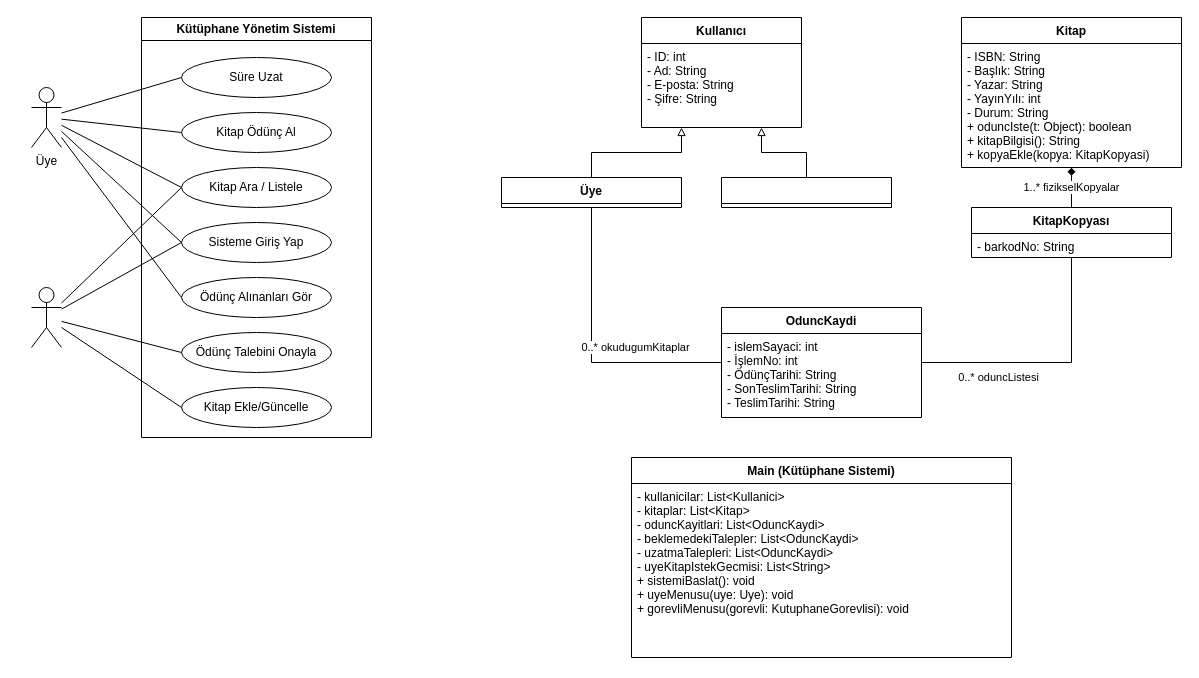
The diagram is 1199 pixels wide and 678 high, and some of its shapes have lost their labels. The centre of each missing label's shape, as x and y in pixels:
"Kütüphane Görevlisi" goes at (46,317).
"KütüphaneGörevlisi" goes at (806,192).
